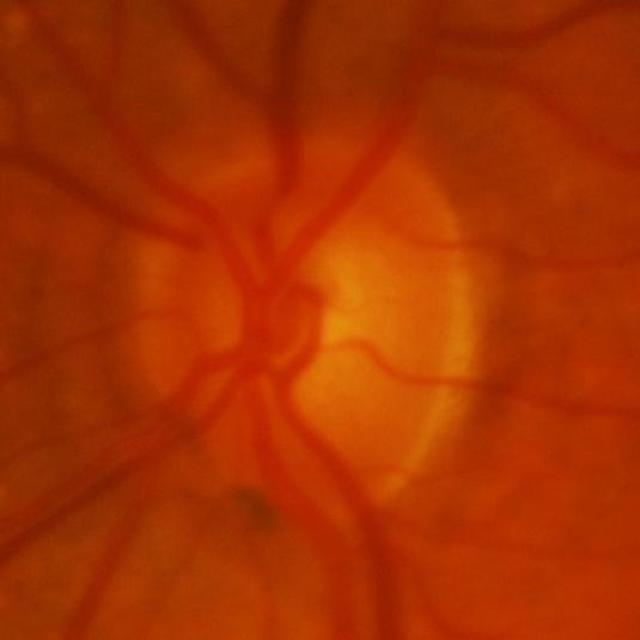OC: (230, 233, 398, 420)
OD: (112, 123, 480, 529)
